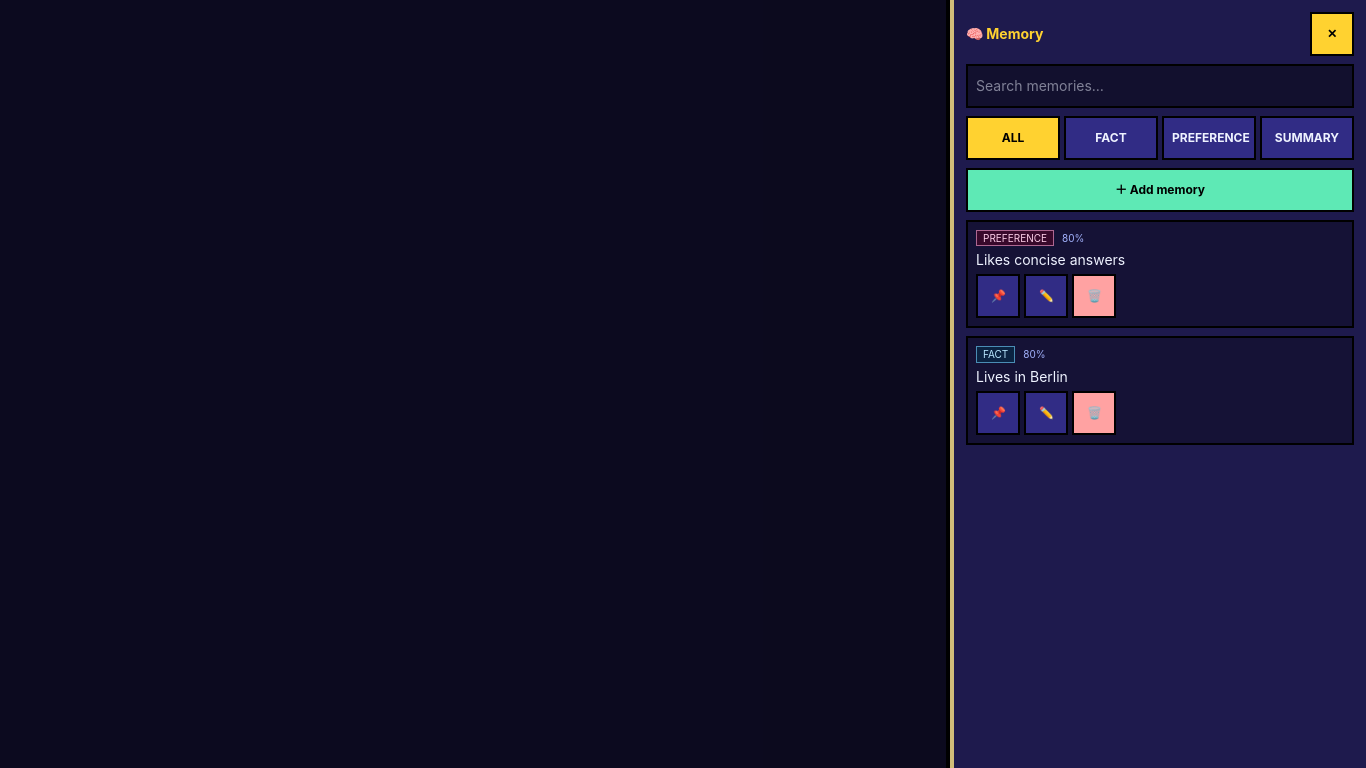
Test case: MemoryPanel › delete removes the row
Click the button named "Delete memory".
click(1094, 296)  # box [1072,274,1116,318]
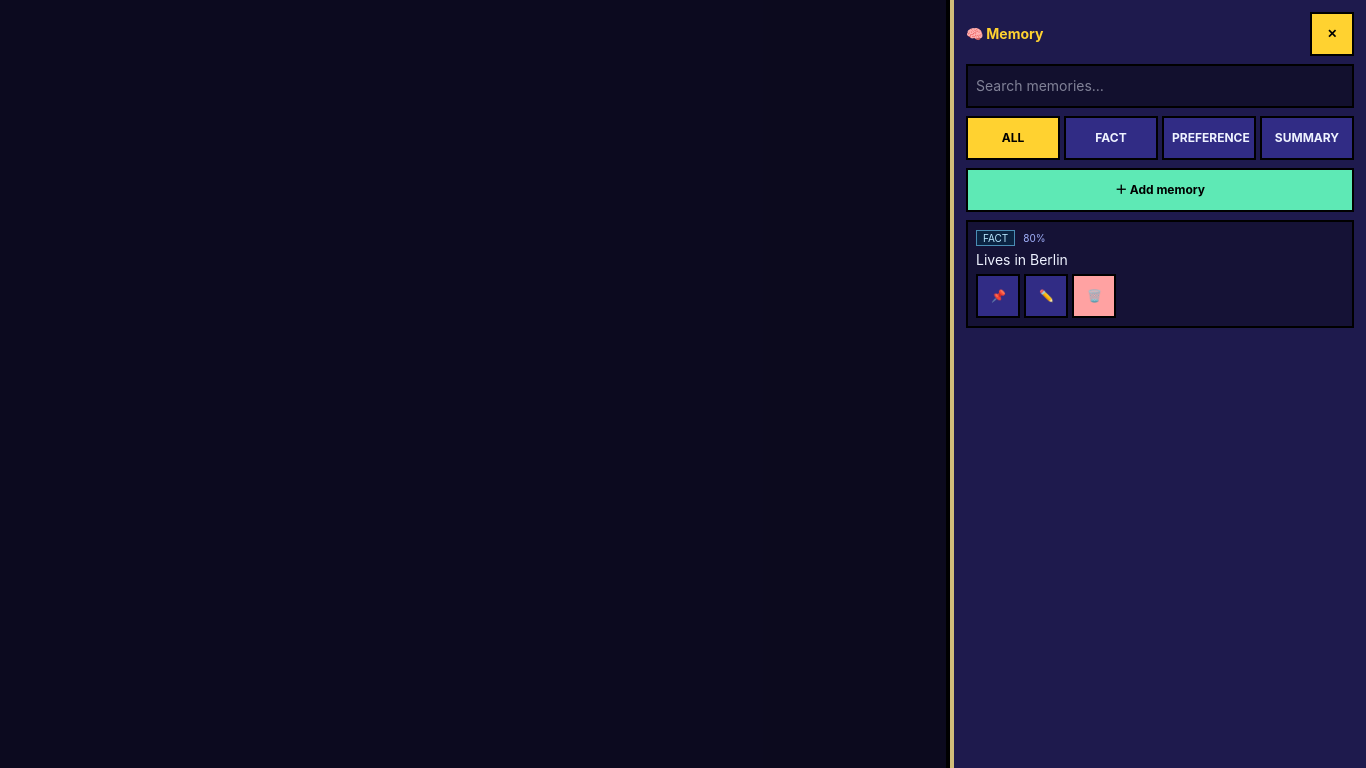
Expected: the number of list items with test id "memory-item" is 1, [966,220,1354,328]
Expected: the text "Likes concise answers" is gone
